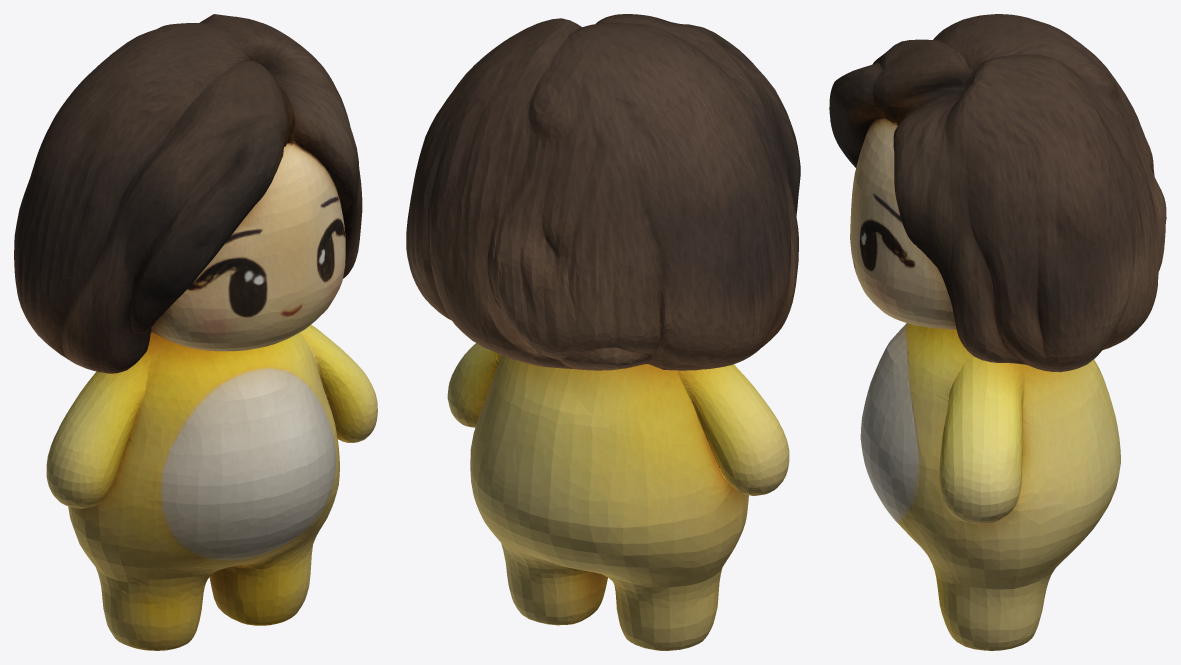
File: soy-milk.glb
3 views of the same model, side by side, from view 1: azimuth 30°, elevation 25°; view 2: azimuth 150°, elevation 25°; view 3: azimuth 270°, elevation 25° (orthographic). The views are drawn at different scales.
Parts seen in each view (by area): view 1: geometry_0; view 2: geometry_0; view 3: geometry_0.
Boxes of the visible parts, x1=… form: geometry_0: x1=14, y1=14, x2=377, y2=650; geometry_0: x1=406, y1=14, x2=800, y2=650; geometry_0: x1=829, y1=14, x2=1166, y2=650.
Bounding box in the file's own units: 0.0497 × 0.085 × 0.0449.
Materials: 1 (1 with a texture image).
